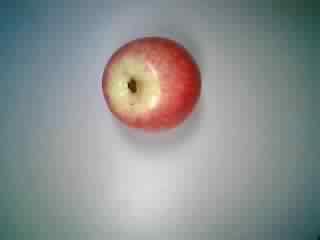apple: (99, 35, 204, 137)
